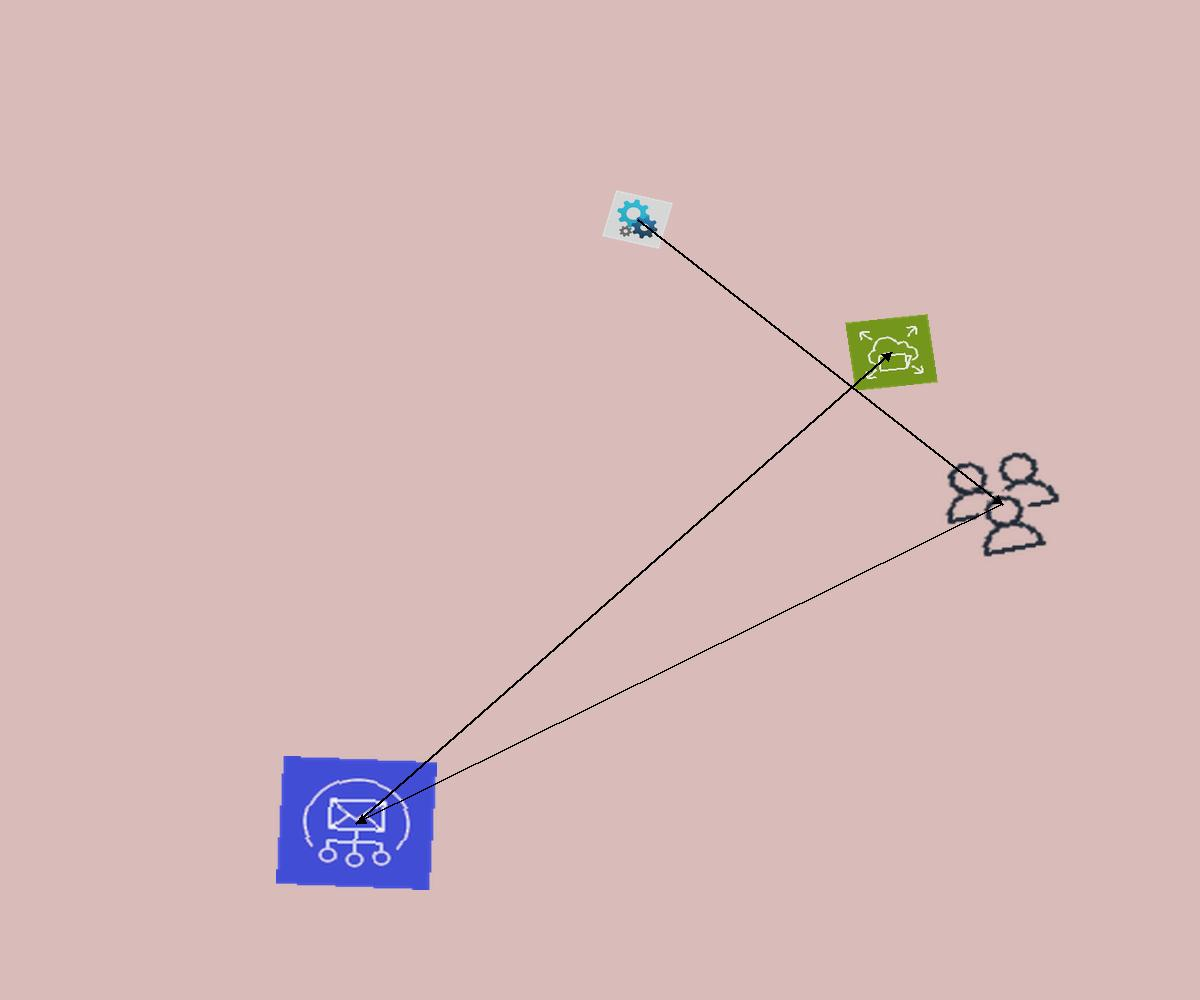AWS-EFS: (845, 314, 938, 391)
AWS-Res_Users: (927, 442, 1077, 567)
AWS-Simple-Email-Service: (276, 756, 437, 890)
Azure_api: (602, 190, 673, 249)
